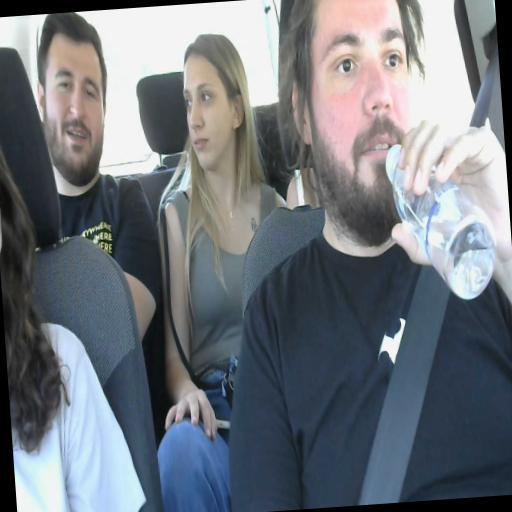Drinking: (291, 0, 512, 299)
